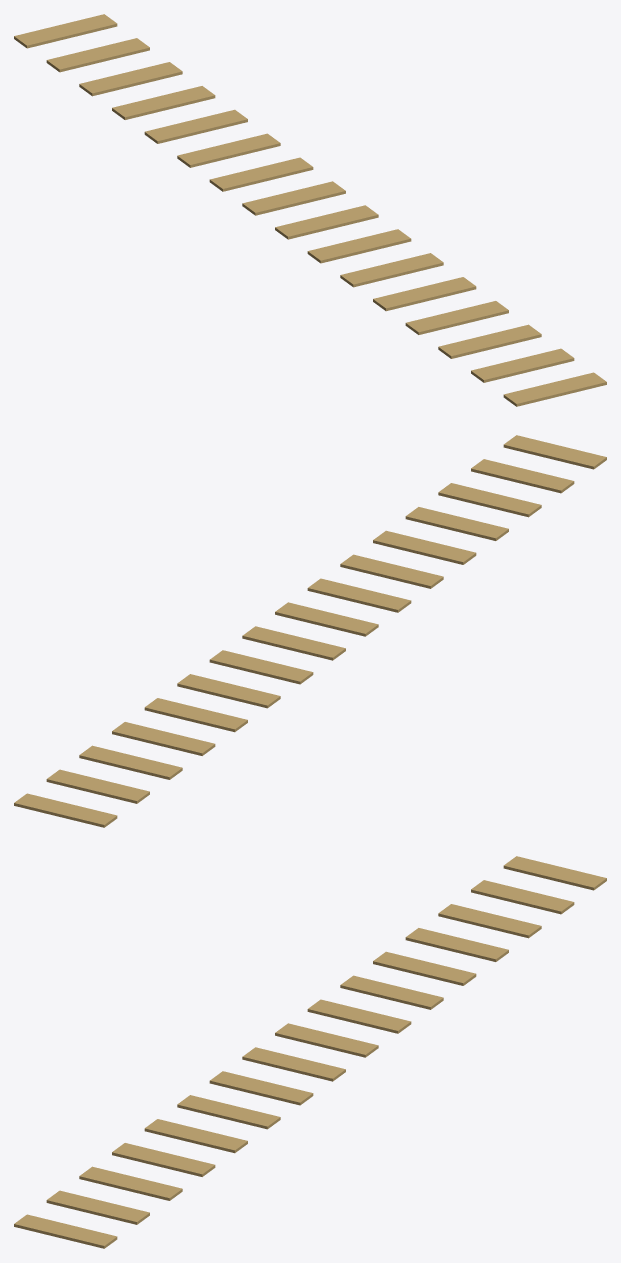
File: Transit_Walk_W4_AccessibleRamp_4m_Tactile.glb
The picture shows the model from 3 angles, top to bottom: view 1: azimuth 30°, elevation 25°; view 2: azimuth 150°, elevation 25°; view 3: azimuth 330°, elevation 25°; orthographic projection.
Parts seen in each view (by area): view 1: Transit_Walk_W4_AccessibleRamp_4m_Tactile; view 2: Transit_Walk_W4_AccessibleRamp_4m_Tactile; view 3: Transit_Walk_W4_AccessibleRamp_4m_Tactile.
Part boxes in pixels (box(x1,y1,x2,y2)): Transit_Walk_W4_AccessibleRamp_4m_Tactile: box(14, 14, 606, 406); Transit_Walk_W4_AccessibleRamp_4m_Tactile: box(14, 435, 606, 827); Transit_Walk_W4_AccessibleRamp_4m_Tactile: box(14, 856, 606, 1248).
Size of the model in its own units: 0.4 by 0.012 by 3.85.
